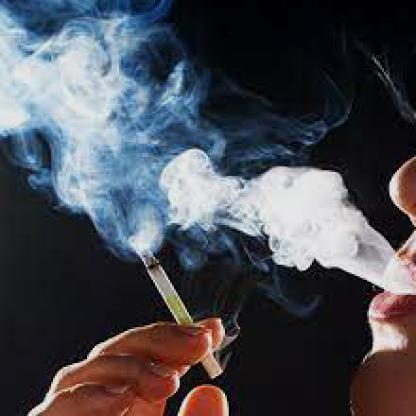cigarette: (136, 245, 221, 380)
smoke: (0, 0, 188, 252), (157, 142, 378, 280)
